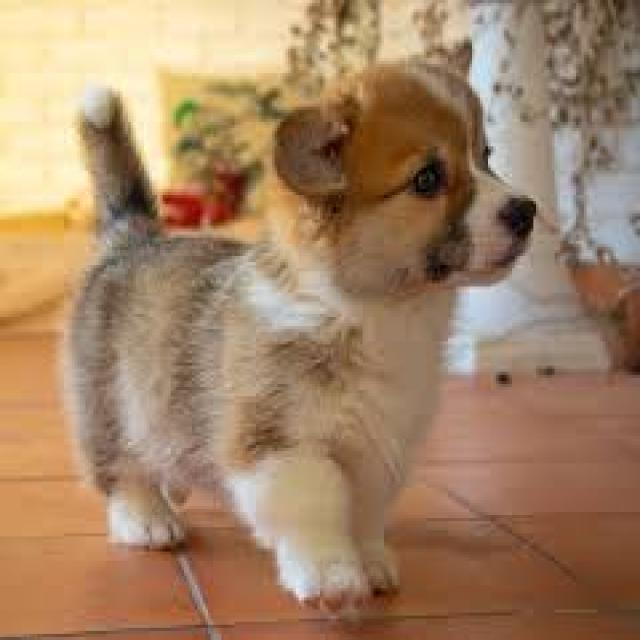CORGI: (66, 25, 536, 621)
